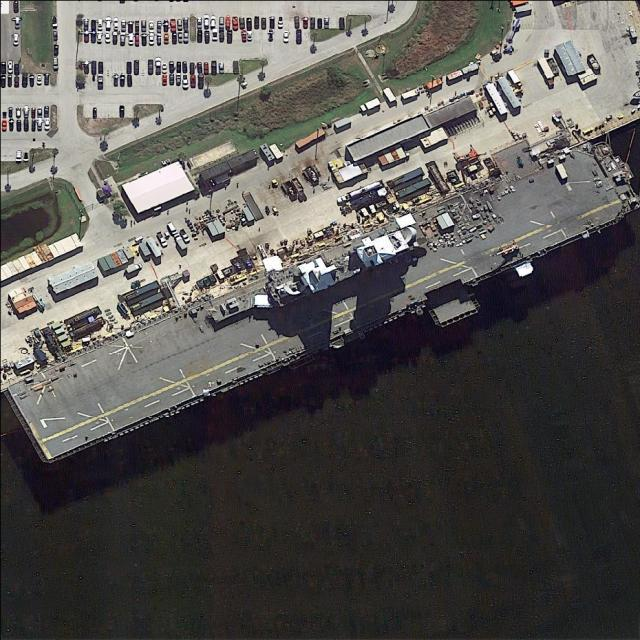Landing: (10, 134, 638, 460)
